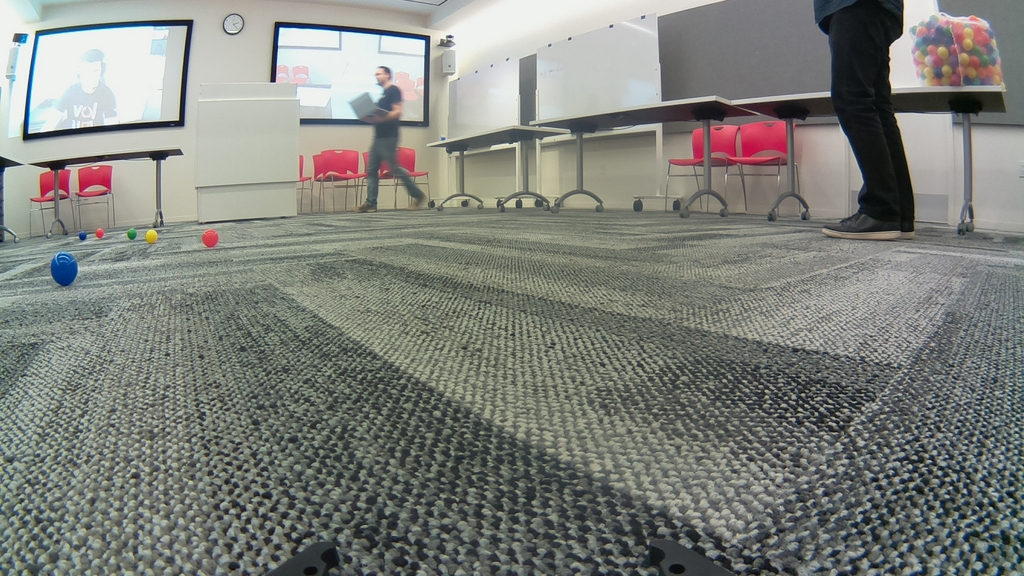ball: (77, 231, 88, 239)
